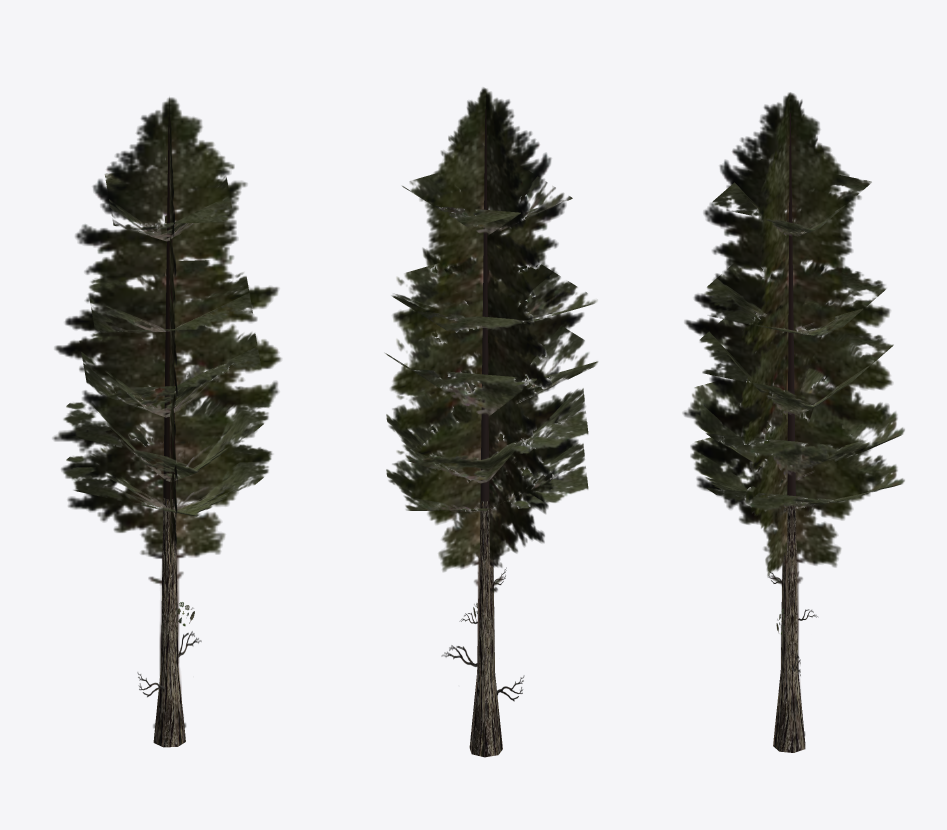
The model's file is forest-road-tree-a.glb.
3 views of the same model, side by side, from view 1: azimuth 30°, elevation 25°; view 2: azimuth 150°, elevation 25°; view 3: azimuth 270°, elevation 25° (orthographic). The views are drawn at different scales.
Visible parts, largest first — view 1: Cylinder060; view 2: Cylinder060; view 3: Cylinder060.
Part boxes in pixels (bbox=[...]): Cylinder060: bbox=[52, 97, 281, 747]; Cylinder060: bbox=[385, 87, 598, 757]; Cylinder060: bbox=[683, 92, 904, 752].
Size of the model in its own units: 3.57 by 9.4 by 3.57.
2 materials, 2 textured.
